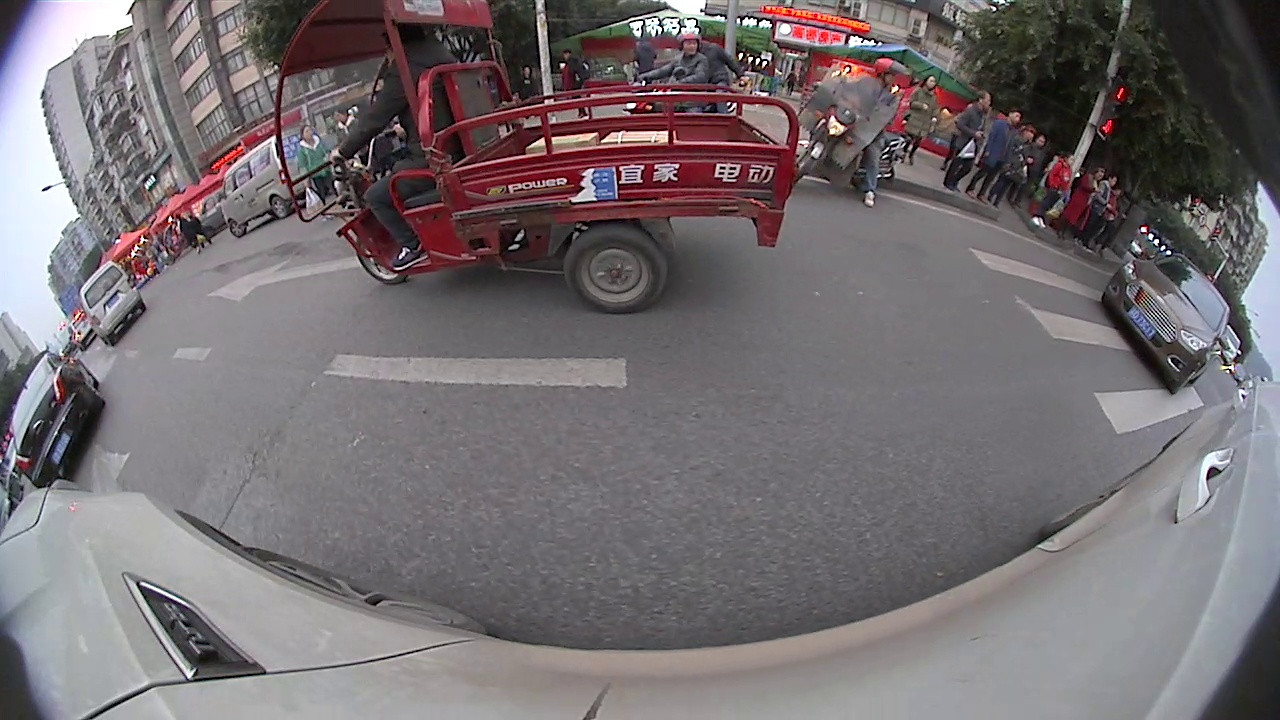car: (1099, 253, 1230, 395), (5, 348, 110, 492), (217, 128, 315, 238), (79, 260, 146, 343)
front: (351, 224, 417, 288), (227, 214, 248, 240)
person: (953, 86, 992, 191), (904, 68, 941, 170)
rear: (560, 223, 670, 314), (268, 192, 292, 220)
rider: (274, 3, 803, 317), (799, 56, 904, 206), (628, 33, 748, 130)
